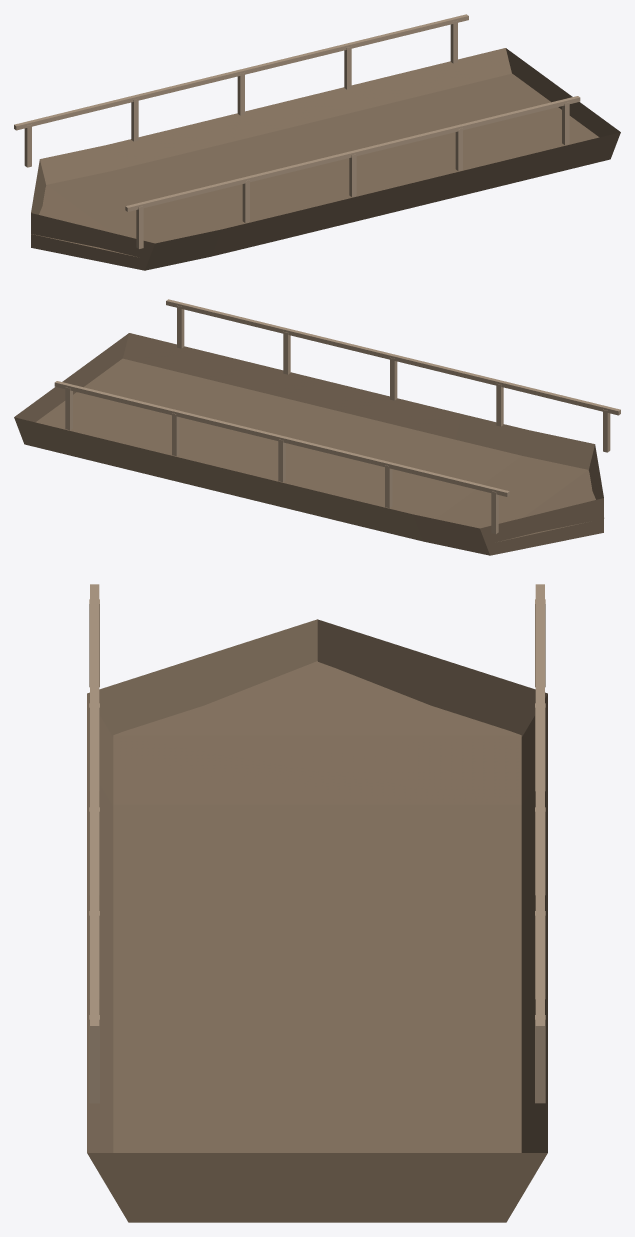
The model's file is scafa.glb.
The picture shows the model from 3 angles, top to bottom: view 1: azimuth 30°, elevation 25°; view 2: azimuth 150°, elevation 25°; view 3: azimuth 270°, elevation 25°; orthographic projection. The views are drawn at different scales.
Parts seen in each view (by area): view 1: scafa, scafa_rails; view 2: scafa, scafa_rails; view 3: scafa, scafa_rails.
Part boxes in pixels (<box>): scafa: <box>31,48,620,270</box>; scafa_rails: <box>14,14,580,248</box>; scafa: <box>14,333,604,555</box>; scafa_rails: <box>54,299,620,533</box>; scafa: <box>87,619,547,1222</box>; scafa_rails: <box>89,584,545,1103</box>.
Size of the model in its own units: 8 by 1.13 by 3.
